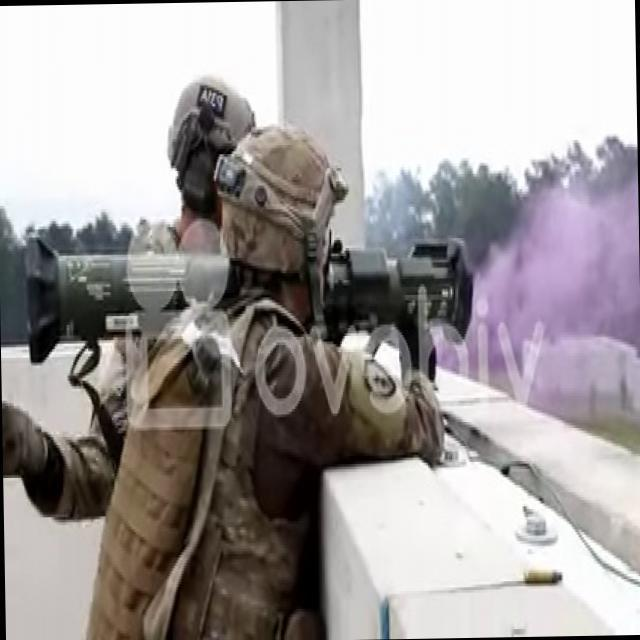rocket: (23, 232, 474, 357)
